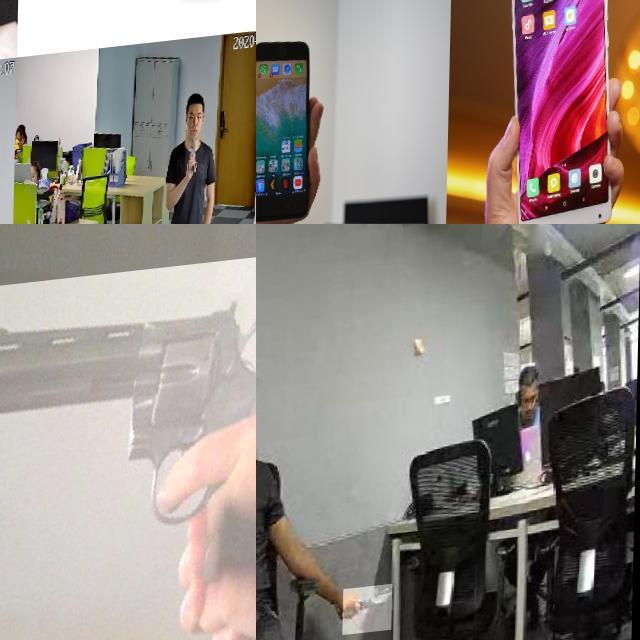-: (345, 593, 394, 640)
gun-knife-thesis - v11 Yolov5 augmented: (0, 256, 256, 640), (33, 0, 256, 117), (0, 0, 104, 126), (187, 140, 199, 185), (0, 149, 4, 181)
